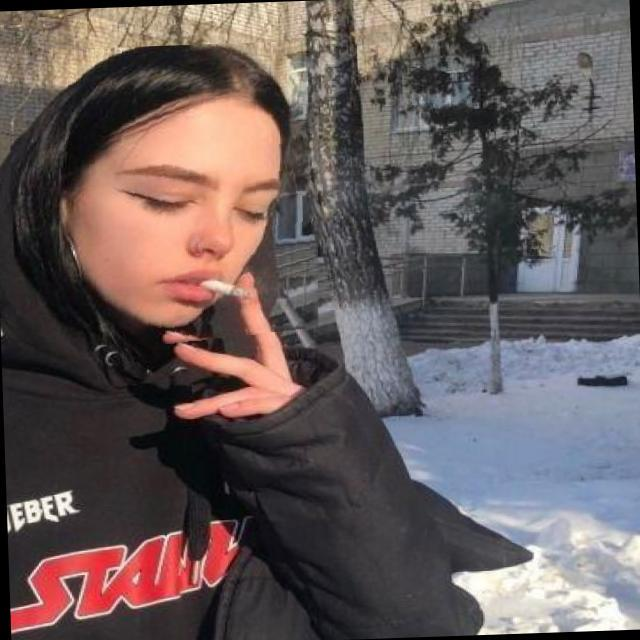cigarette: (196, 276, 276, 333)
